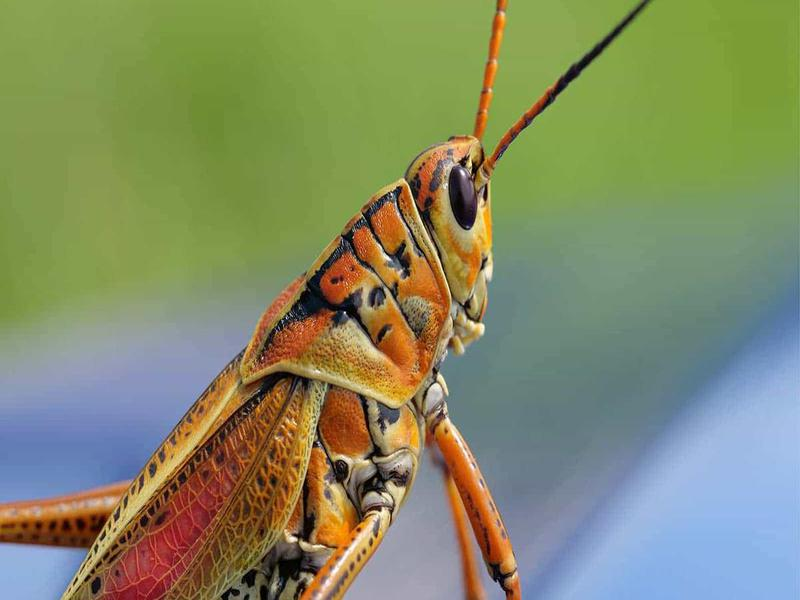Grasshopper: (57, 116, 532, 600)
